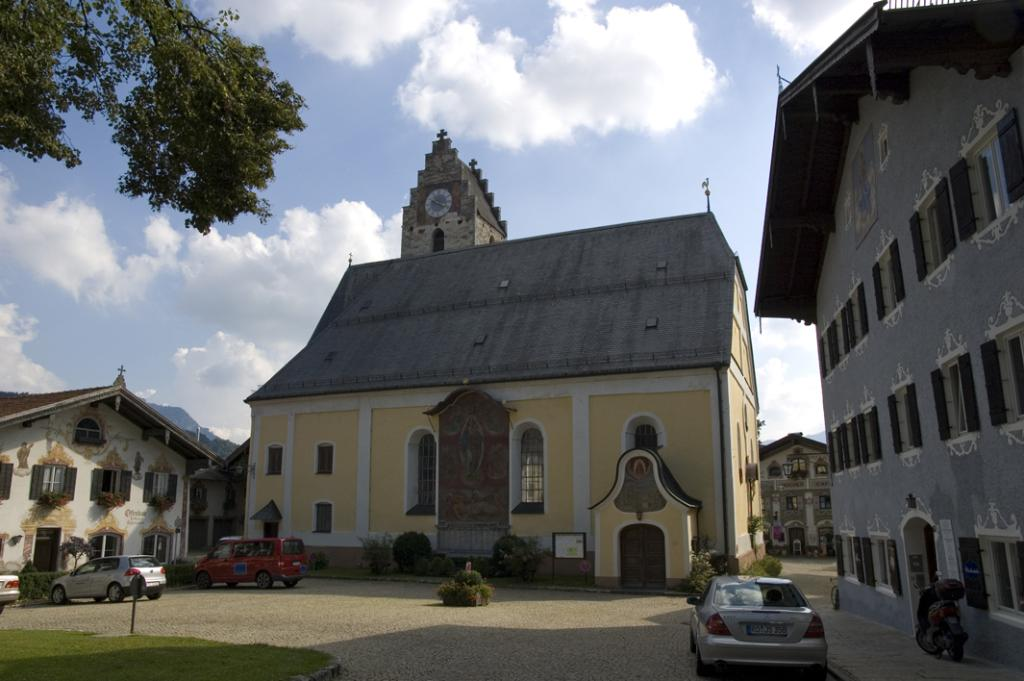car: (671, 547, 856, 678), (177, 512, 329, 610), (36, 538, 190, 614)
